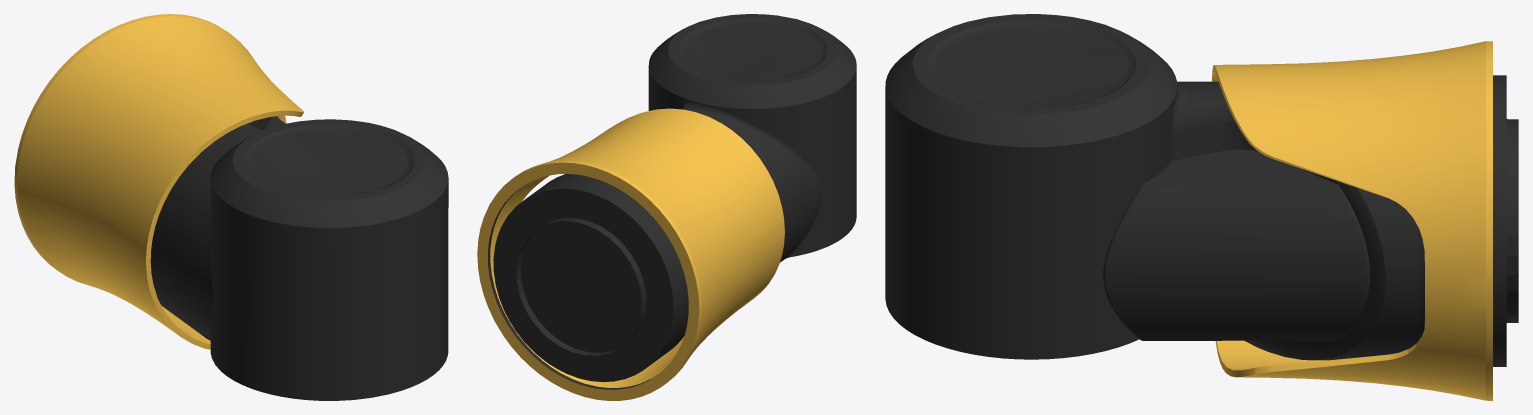
The picture shows the model from 3 angles, left to right: view 1: azimuth 30°, elevation 25°; view 2: azimuth 150°, elevation 25°; view 3: azimuth 270°, elevation 25°; orthographic projection. The views are drawn at different scales.
Parts seen in each view (by area): view 1: arml3; view 2: arml3; view 3: arml3.
Boxes of the visible parts, x1,y1,x2,y2 form: arml3: (14, 14, 448, 400); arml3: (477, 14, 856, 400); arml3: (885, 14, 1518, 400).
Bounding box in the file's own units: 0.1061 × 0.106 × 0.1866.
Materials: 1 (1 with a texture image).
